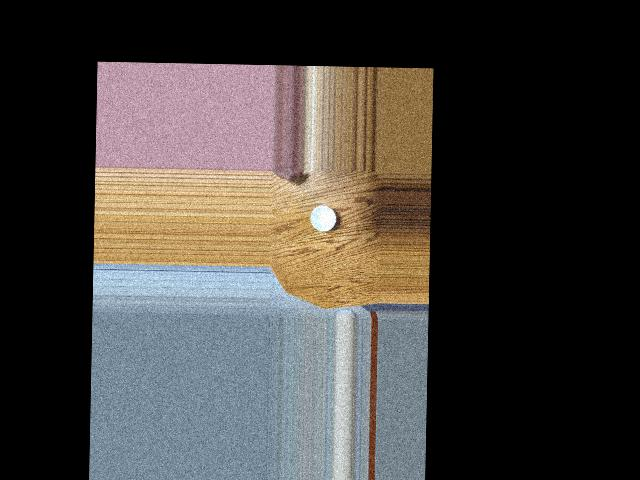cotage: (307, 201, 335, 232)
